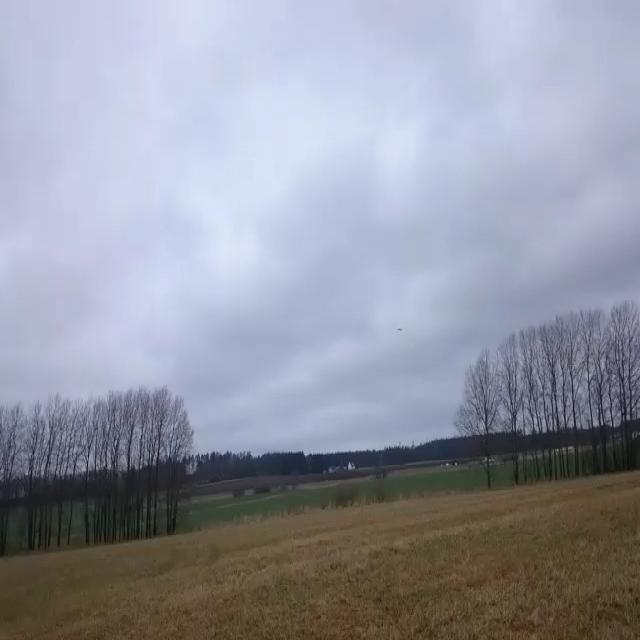drone: (398, 328, 402, 331)
